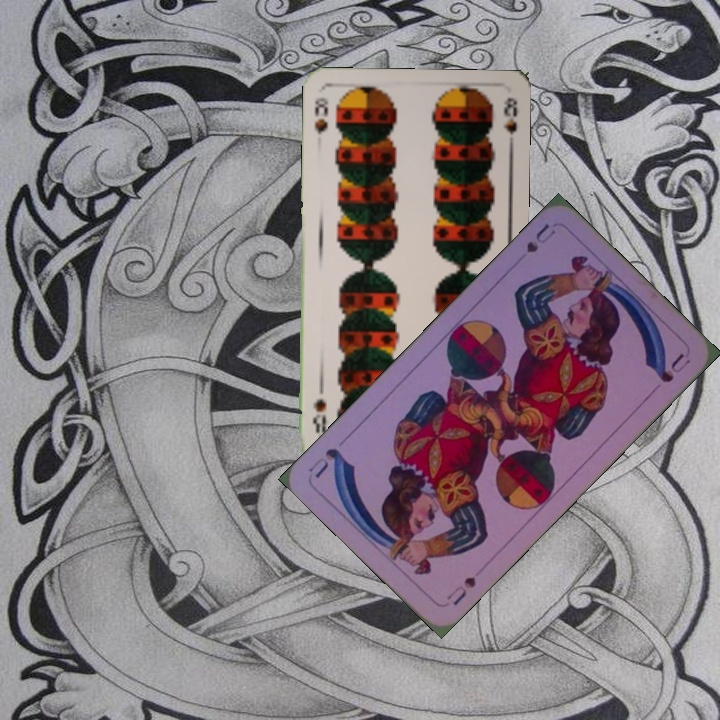S8: (310, 93, 330, 137)
SU: (442, 572, 479, 609), (522, 219, 558, 256)
